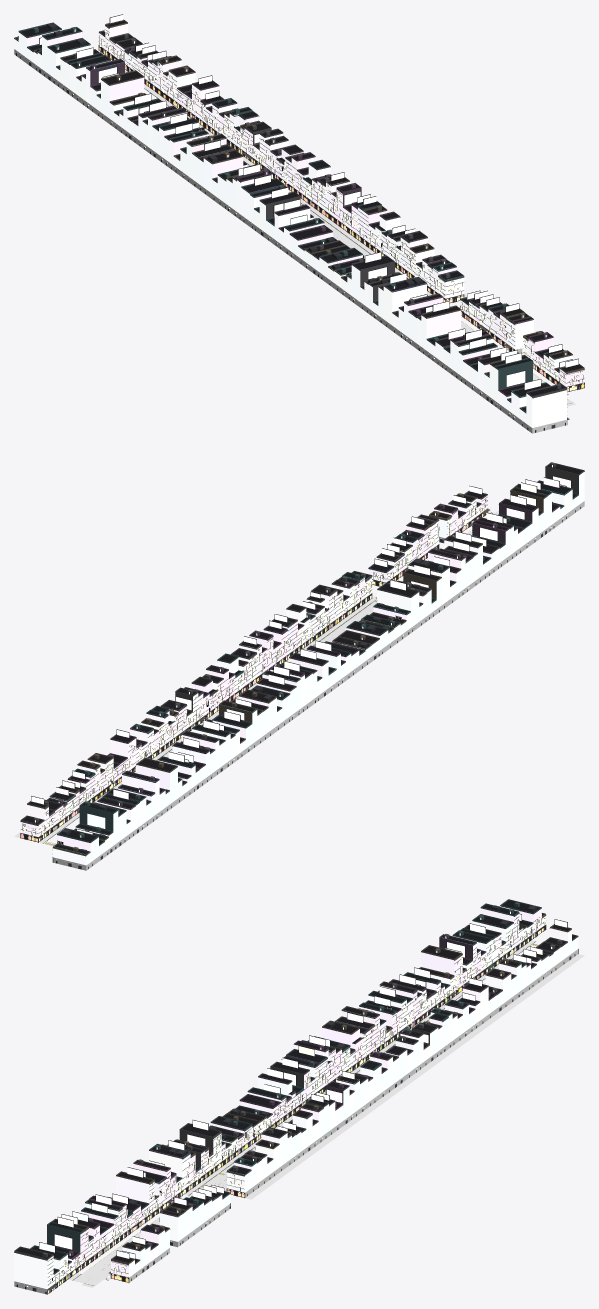
The model's file is world-phone-japantown.glb.
3 renders of one model, top to bottom at view 1: azimuth 30°, elevation 25°; view 2: azimuth 150°, elevation 25°; view 3: azimuth 330°, elevation 25°, orthographic. The views are drawn at different scales.
Visible parts, largest first — view 1: japantown_facade, japantown_trim, japantown_roof, japantown_billboard, japantown_board_frame, japantown_concrete, japantown_sign, japantown_shop, japantown_sidewalk, japantown_metal, japantown_asphalt; view 2: japantown_facade, japantown_trim, japantown_roof, japantown_billboard, japantown_board_frame, japantown_concrete, japantown_sign, japantown_sidewalk, japantown_metal, japantown_shop; view 3: japantown_facade, japantown_trim, japantown_roof, japantown_billboard, japantown_board_frame, japantown_sign, japantown_sidewalk, japantown_concrete, japantown_asphalt, japantown_shop, japantown_metal.
Boxes of the visible parts, x1,y1,x2,y2 form: japantown_facade: (14,24,584,427); japantown_trim: (14,19,584,424); japantown_roof: (16,21,582,411); japantown_billboard: (39,15,578,389); japantown_board_frame: (39,14,583,405); japantown_concrete: (14,49,566,433); japantown_sign: (73,29,583,427); japantown_shop: (99,47,584,391); japantown_sidewalk: (98,50,575,406); japantown_metal: (18,23,448,337); japantown_asphalt: (247,164,572,403); japantown_facade: (20,472,584,865); japantown_trim: (20,462,584,862); japantown_roof: (22,464,582,854); japantown_billboard: (31,476,570,834); japantown_board_frame: (22,476,571,844); japantown_concrete: (53,501,584,870); japantown_sign: (21,499,568,851); japantown_sidewalk: (14,512,492,843); japantown_metal: (61,502,552,853); japantown_shop: (21,512,487,841); japantown_facade: (14,906,578,1289); japantown_trim: (14,899,578,1294); japantown_roof: (16,900,576,1273); japantown_billboard: (39,914,567,1258); japantown_board_frame: (28,913,567,1286); japantown_sign: (26,913,553,1286); japantown_sidewalk: (68,940,584,1287); japantown_concrete: (14,928,577,1294); japantown_asphalt: (73,1008,444,1285); japantown_shop: (48,928,543,1293); japantown_metal: (129,905,537,1203).
Size of the model in its own units: 80.36 by 39.73 by 775.
